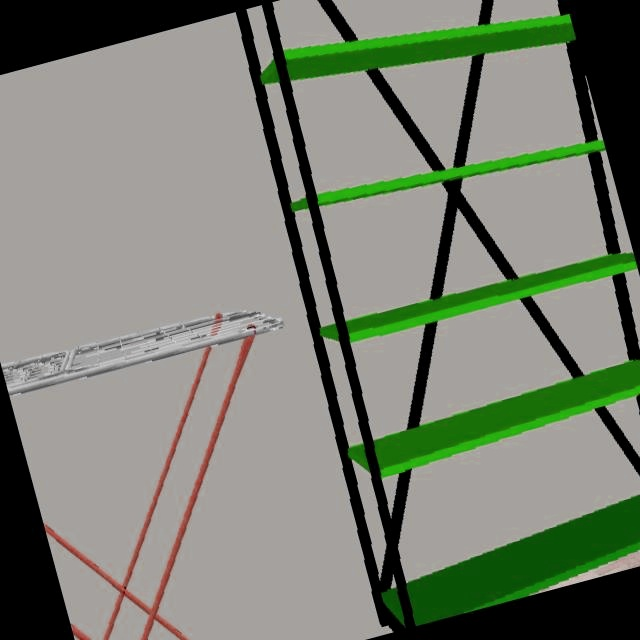shelf: (235, 0, 640, 632)
